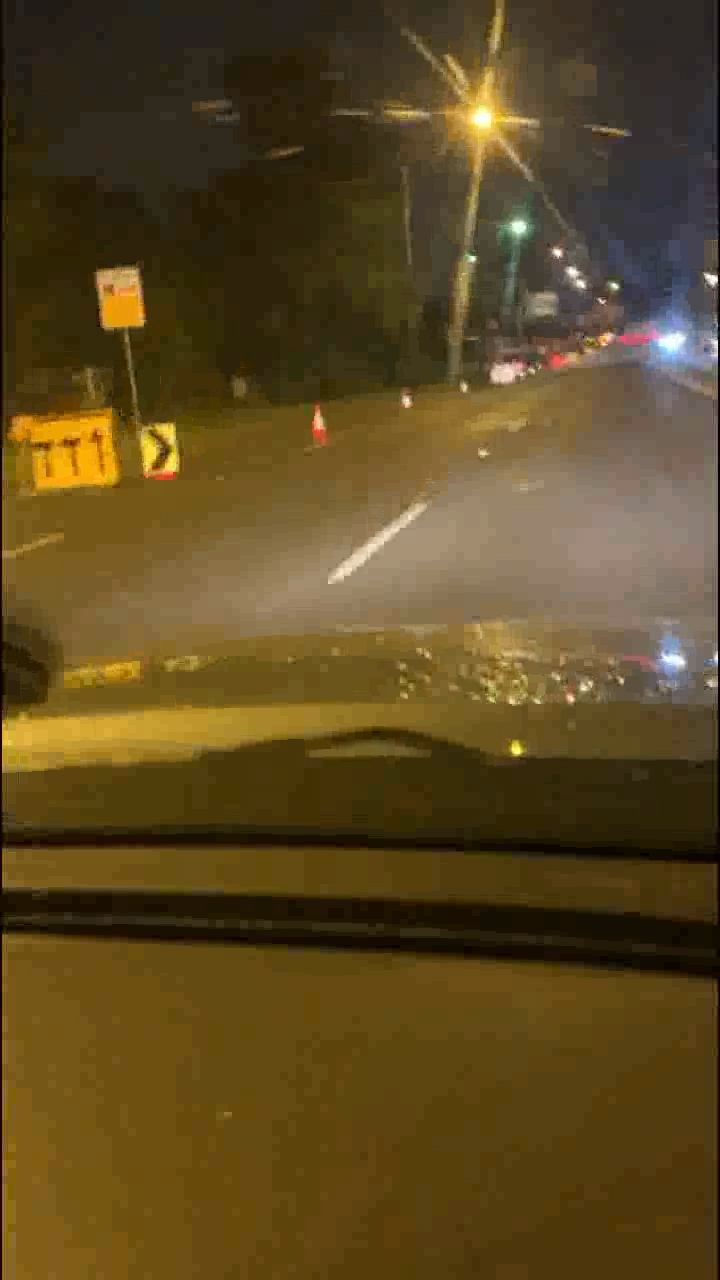road cone: (308, 405, 327, 438)
road works sign board: (18, 419, 127, 488), (137, 427, 193, 488)
